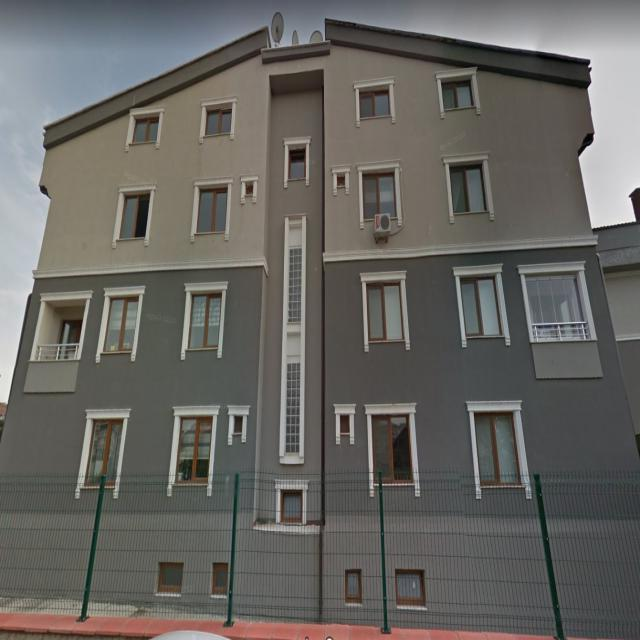Building: (0, 17, 640, 638)
